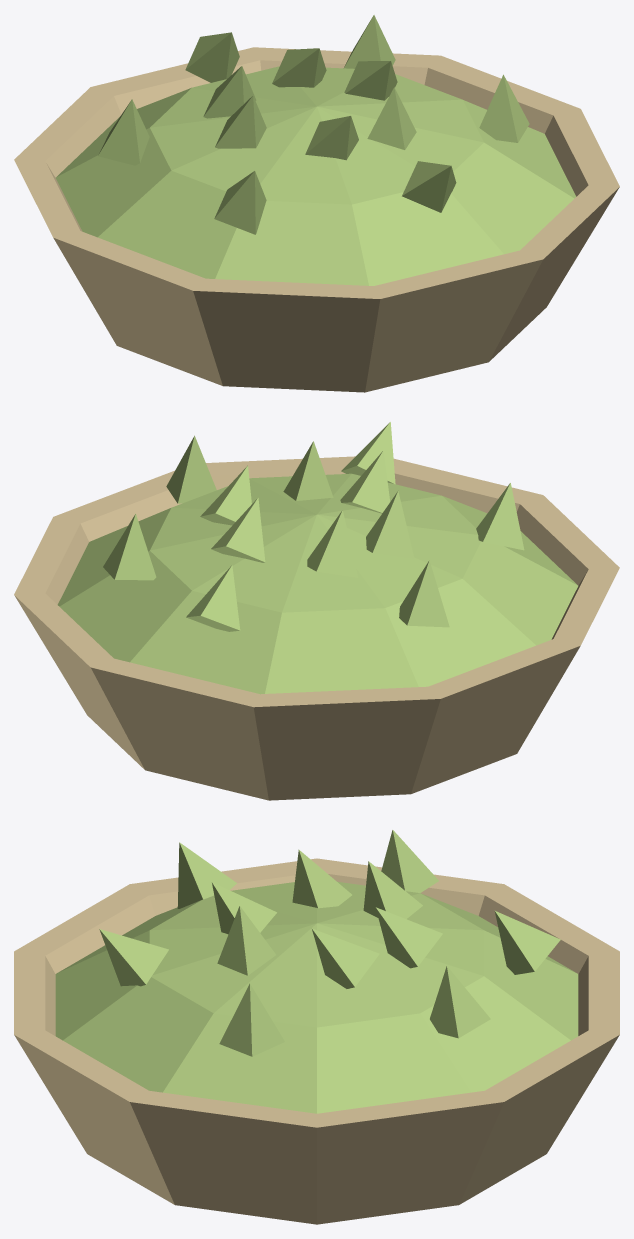
Rendered from prop-hop-basket.fbx.
3 views of the same model, one above another, from view 1: azimuth 30°, elevation 25°; view 2: azimuth 150°, elevation 25°; view 3: azimuth 270°, elevation 25° (orthographic). The views are drawn at different scales.
Visible parts, largest first — view 1: prop-hop-basket; view 2: prop-hop-basket; view 3: prop-hop-basket.
Part boxes in pixels (box(x1,y1,x2,y2)): prop-hop-basket: box(14, 15, 619, 392); prop-hop-basket: box(14, 422, 619, 800); prop-hop-basket: box(14, 830, 619, 1224).
Bounding box in the file's own units: 58 × 23.88 × 55.16.
